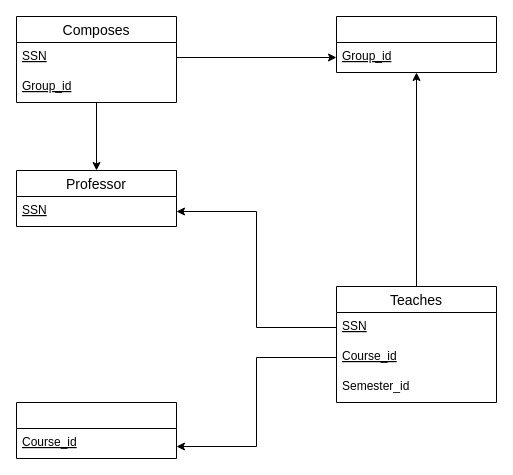
Some shapes in this 513 by 475 pixel diagram are drawn without their labels. Here are the shapes that lost their labels. From the top down, the box of each, then its label:
(336, 16, 496, 72): Professors
(16, 402, 176, 458): Courses
